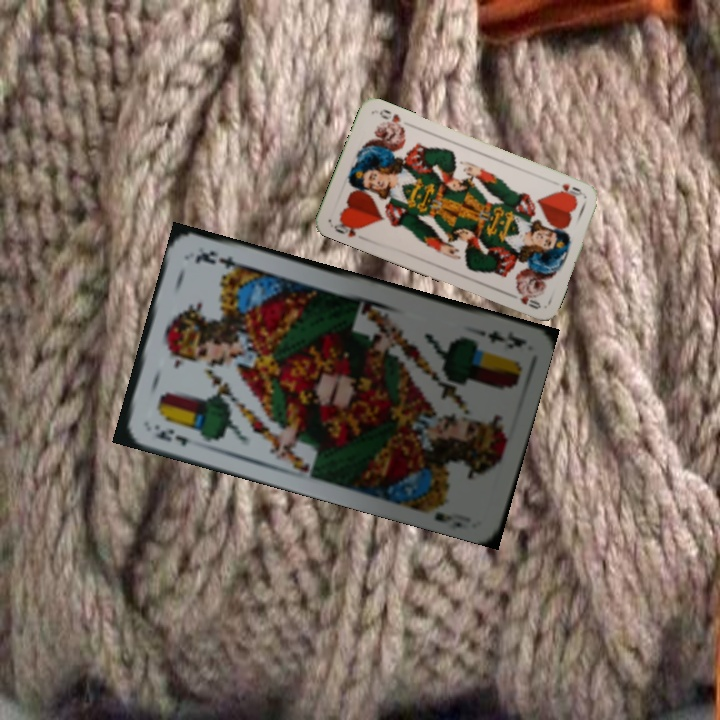EK: (470, 325, 529, 351), (150, 420, 191, 448)
HO: (330, 216, 365, 240), (552, 179, 588, 202)
